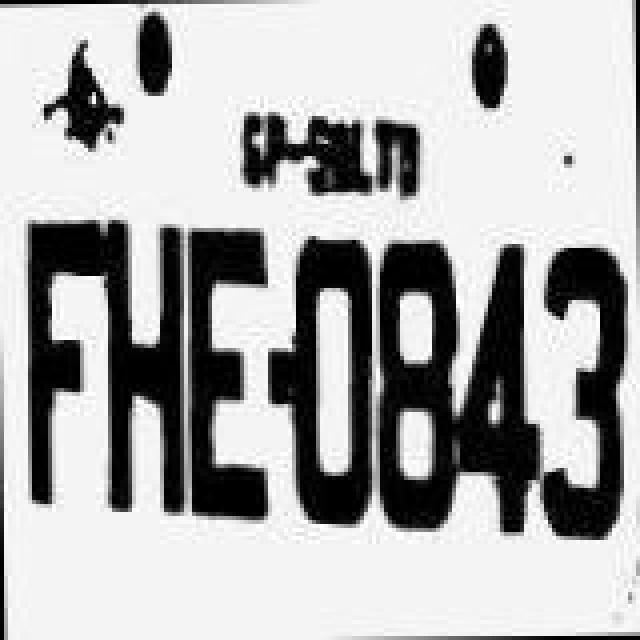3: (532, 244, 632, 548)
4: (454, 240, 542, 536)
8: (374, 242, 462, 538)
E: (180, 228, 268, 528)
F: (18, 218, 110, 510)
H: (100, 214, 188, 530)
O: (296, 236, 380, 532)
